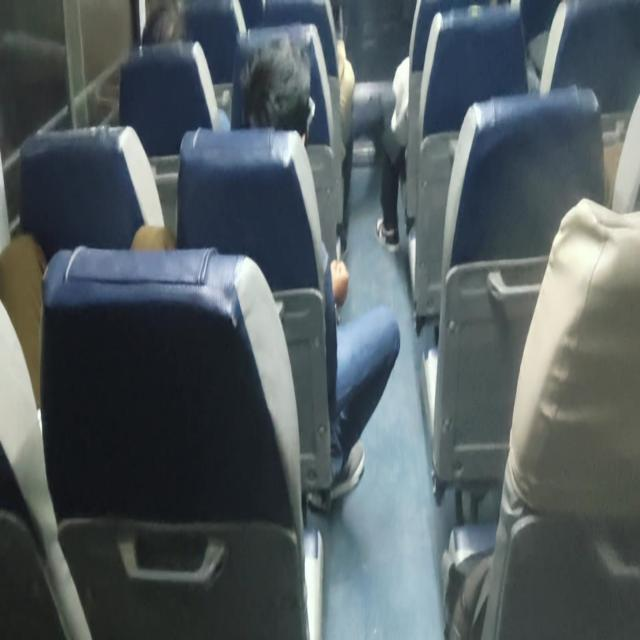person: (238, 33, 401, 501), (375, 0, 489, 252), (242, 33, 314, 143)
